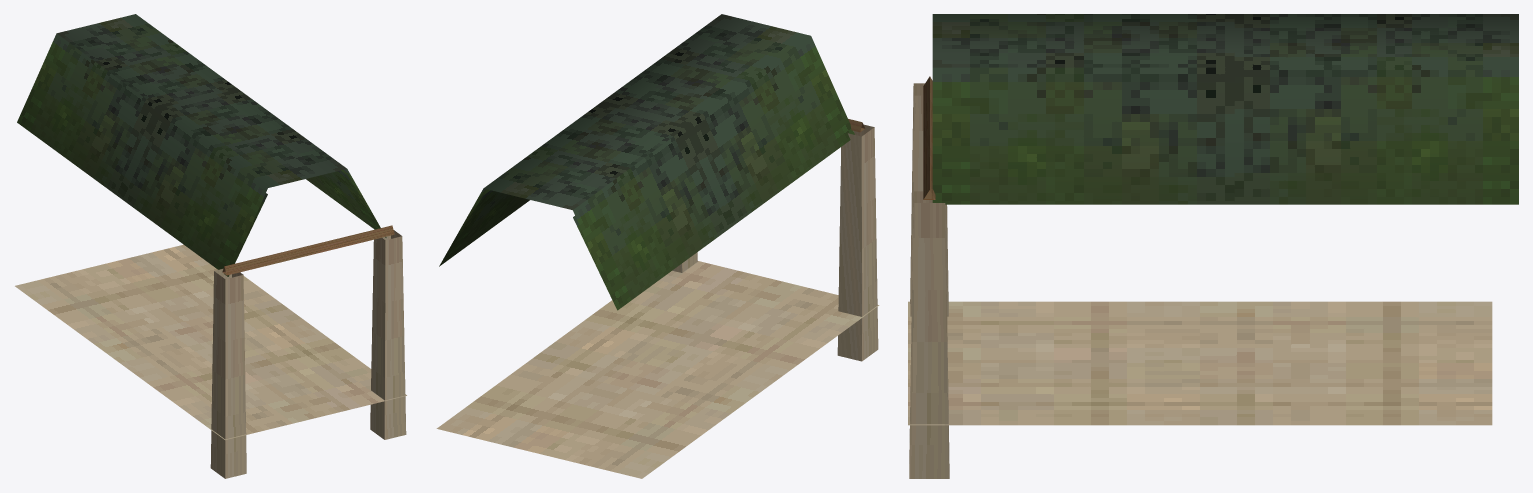
File: thm_nboo_imprv_arbor_long_s01_l3.fbx
3 renders of one model, left to right at view 1: azimuth 30°, elevation 25°; view 2: azimuth 150°, elevation 25°; view 3: azimuth 270°, elevation 25°, orthographic. The views are drawn at different scales.
Visible parts, largest first — view 1: mesh_node; view 2: mesh_node; view 3: mesh_node.
Boxes of the visible parts, bbox=[...] form: mesh_node: bbox=[15, 14, 406, 478]; mesh_node: bbox=[436, 14, 879, 478]; mesh_node: bbox=[908, 14, 1518, 478].
Bounding box in the file's own units: 4 × 5.7 × 8.37.
